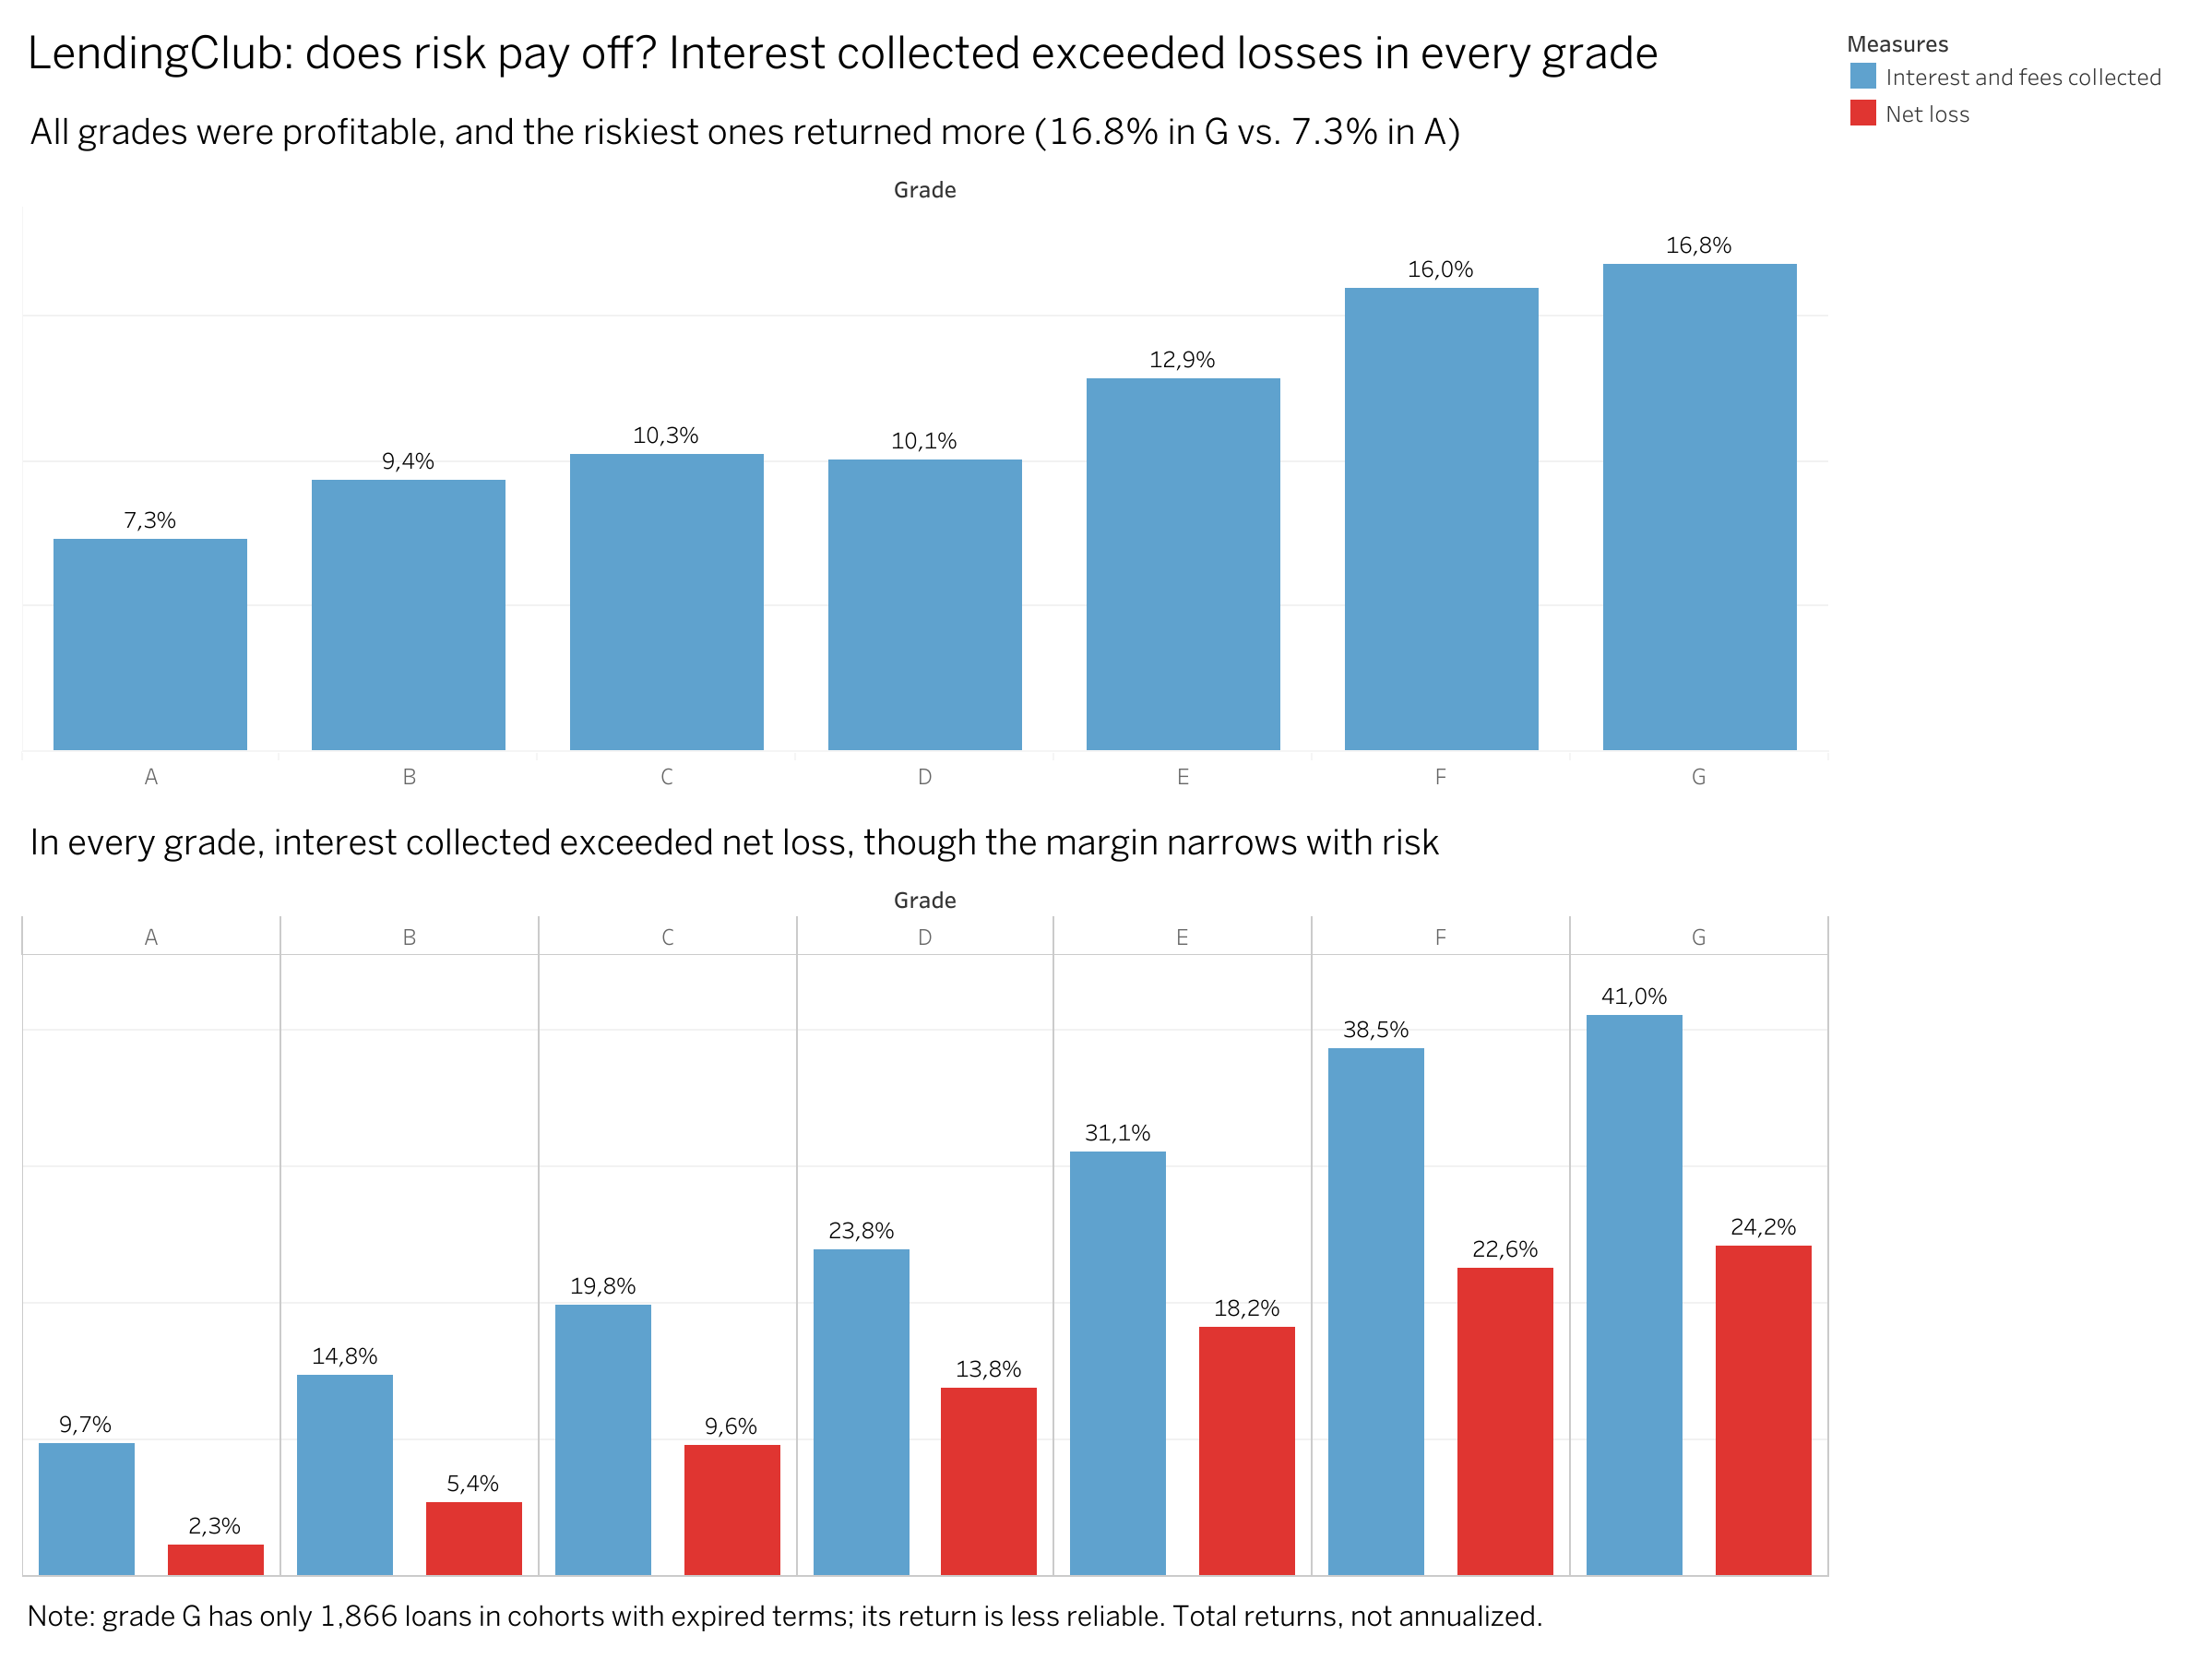

What the dashboard file says about the page in this screenshot:
{"tool":"tableau","page":{"name":"2 · Risk or return","canvas":[1200,900],"ordinal":3},"visuals":[{"type":"title","box":[8,8,988,39]},{"type":"legend","title":"Interest vs. loss","param":"[federated.0e31zk706vtg8k160t5x200k807c].[:Measure Names]","box":[996,8,196,66]},{"type":"worksheet","title":"Return by grade","mark":"Bar","rows":["gross_return_pct"],"cols":["grade"],"box":[8,47,988,386.5]},{"type":"worksheet","title":"Interest vs. loss","mark":"Bar","cols":["grade"],"box":[8,433.5,988,425.5]},{"type":"text","box":[8,859,988,33]}]}

Visuals, with their boxes in screenshot pixels (x1, y1, x2, y2), scaled from the page's 1200x900 canvas onto the 2212x1659 screenshot:
title: (x1=15, y1=15, x2=1836, y2=87)
"Interest vs. loss" legend: (x1=1836, y1=15, x2=2197, y2=137)
"Return by grade" worksheet (Bar marks): (x1=15, y1=87, x2=1836, y2=799)
"Interest vs. loss" worksheet (Bar marks): (x1=15, y1=799, x2=1836, y2=1583)
text: (x1=15, y1=1583, x2=1836, y2=1644)
